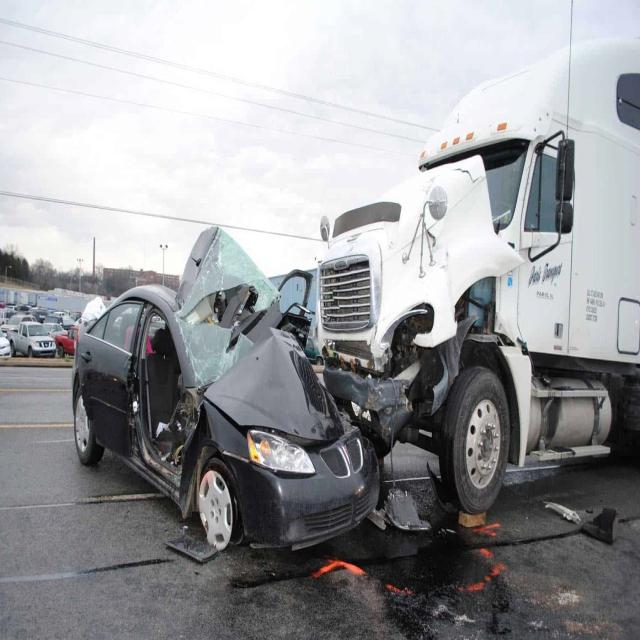Accident: (68, 34, 640, 562)
